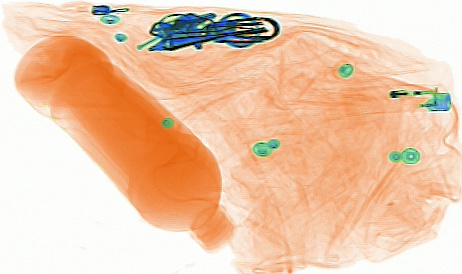lighter: (340, 79, 453, 113)
